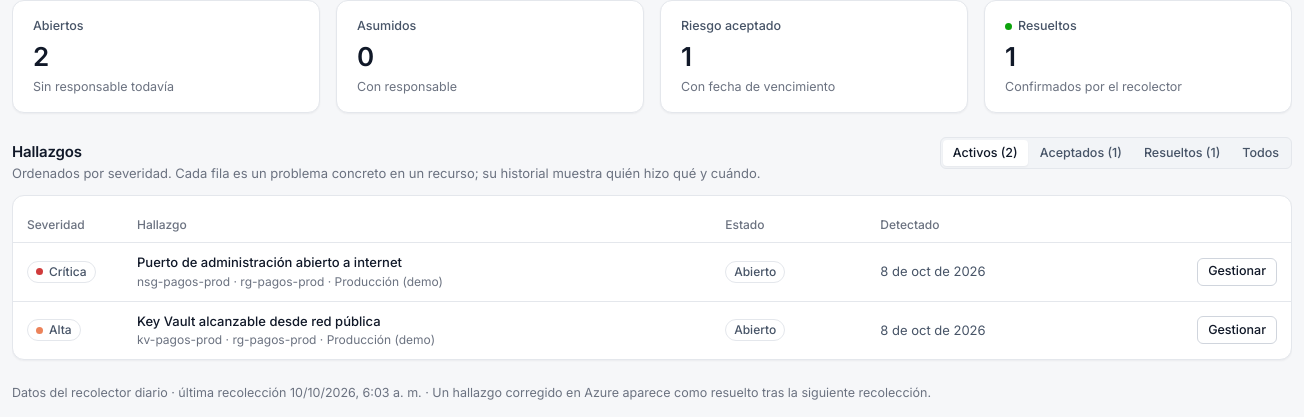
it: Gestión de hallazgos › muestra los activos por defecto y filtra por estado
Expected: the text "Puerto de administración abierto a internet" is shown, [137,254,402,270]
Expected: the number of rows is 3, [13,208,1291,242]; [13,242,1291,301]; [13,301,1291,359]
Click the radio button labelled "Aceptados (1)" at (1081, 153), box [1030,140,1132,166]
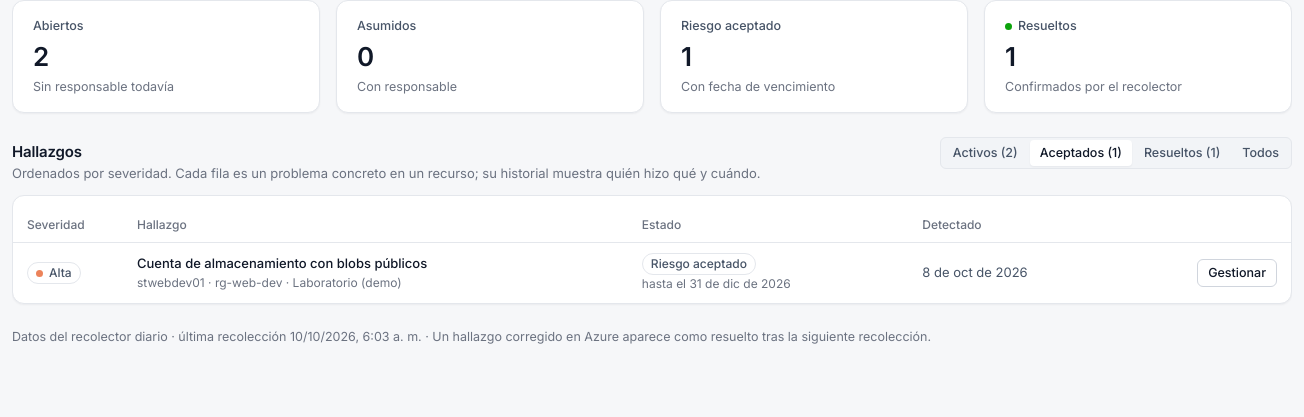
Expected: the text "hasta el 31 de dic de 2026" is shown, [642,276,791,291]
